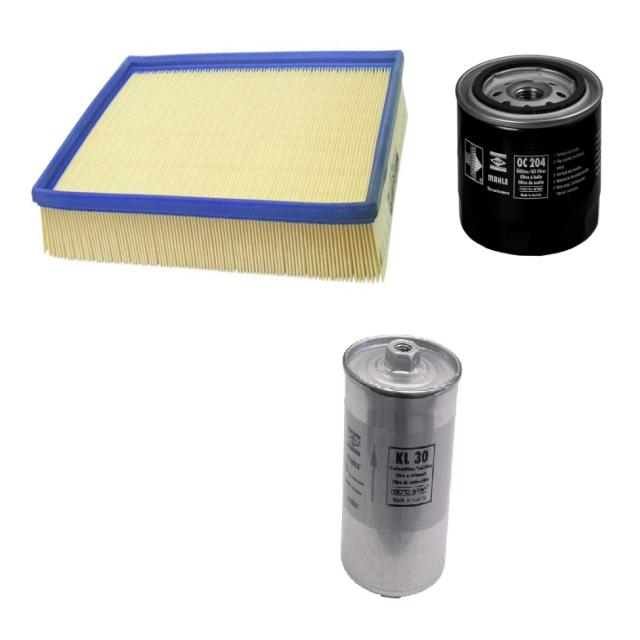air_filter: (29, 41, 417, 283)
oil_filter: (337, 326, 467, 602), (450, 48, 606, 260)
